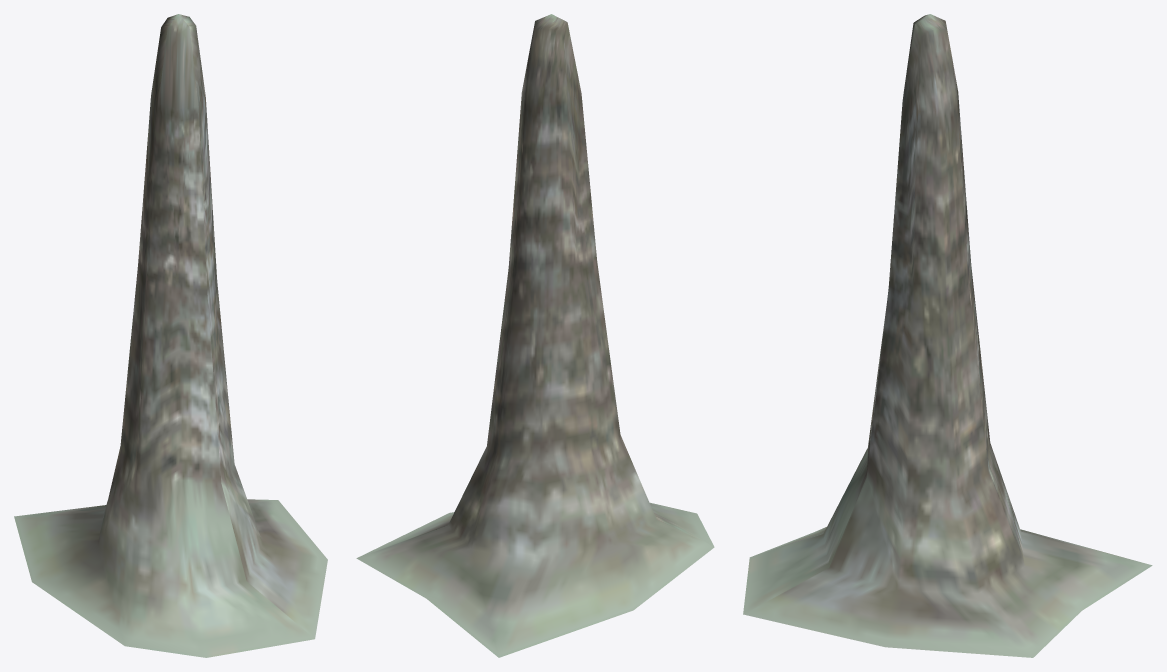
Rendered from TROLLHOLE02_PS-MAINSTALAG38.fbx.
The picture shows the model from 3 angles, left to right: view 1: azimuth 30°, elevation 25°; view 2: azimuth 150°, elevation 25°; view 3: azimuth 270°, elevation 25°; orthographic projection. The views are drawn at different scales.
Parts seen in each view (by area): view 1: TROLLHOLE02_PS-MAINSTALAG38; view 2: TROLLHOLE02_PS-MAINSTALAG38; view 3: TROLLHOLE02_PS-MAINSTALAG38.
Boxes of the visible parts, x1,y1,x2,y2 form: TROLLHOLE02_PS-MAINSTALAG38: (14, 14, 327, 657); TROLLHOLE02_PS-MAINSTALAG38: (356, 14, 714, 657); TROLLHOLE02_PS-MAINSTALAG38: (743, 14, 1152, 657).
Size of the model in its own units: 20622 by 42180 by 27067.
1 material, 1 textured.
